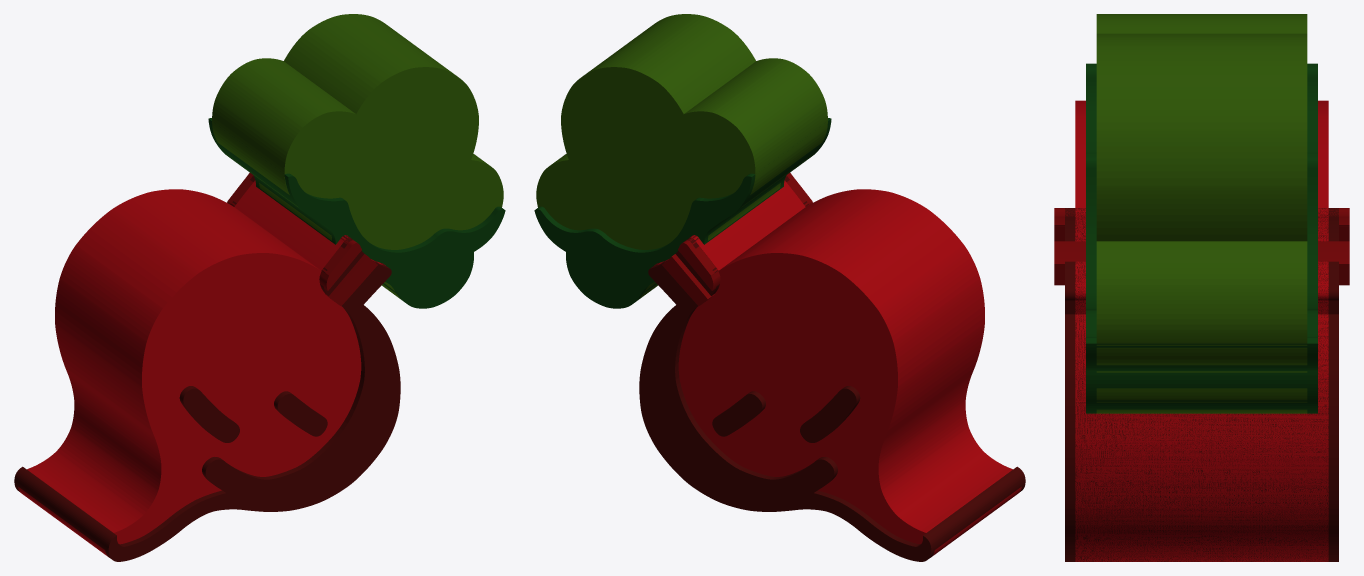
File: U+1FADC.obj
The picture shows the model from 3 angles, left to right: view 1: azimuth 30°, elevation 25°; view 2: azimuth 150°, elevation 25°; view 3: azimuth 270°, elevation 25°; orthographic projection. The views are drawn at different scales.
Parts seen in each view (by area): view 1: U+1FADC_layer02_obj00, U+1FADC_layer00_obj00, U+1FADC_layer03_obj00, U+1FADC_layer01_obj00, U+1FADC_layer04_obj00, U+1FADC_layer04_obj01; view 2: U+1FADC_layer02_obj00, U+1FADC_layer00_obj00, U+1FADC_layer03_obj00, U+1FADC_layer01_obj00, U+1FADC_layer04_obj00, U+1FADC_layer04_obj01; view 3: U+1FADC_layer00_obj00, U+1FADC_layer02_obj00, U+1FADC_layer03_obj00, U+1FADC_layer01_obj00, U+1FADC_layer04_obj01, U+1FADC_layer04_obj00.
Part boxes in pixels (x1=…): U+1FADC_layer02_obj00: x1=18, y1=180, x2=385, y2=556; U+1FADC_layer00_obj00: x1=212, y1=14, x2=503, y2=299; U+1FADC_layer03_obj00: x1=14, y1=176, x2=400, y2=561; U+1FADC_layer01_obj00: x1=208, y1=118, x2=505, y2=308; U+1FADC_layer04_obj00: x1=227, y1=173, x2=361, y2=290; U+1FADC_layer04_obj01: x1=325, y1=254, x2=377, y2=306; U+1FADC_layer02_obj00: x1=654, y1=180, x2=1021, y2=556; U+1FADC_layer00_obj00: x1=536, y1=14, x2=827, y2=299; U+1FADC_layer03_obj00: x1=639, y1=176, x2=1025, y2=561; U+1FADC_layer01_obj00: x1=534, y1=118, x2=831, y2=308; U+1FADC_layer04_obj00: x1=678, y1=173, x2=812, y2=290; U+1FADC_layer04_obj01: x1=662, y1=254, x2=714, y2=306; U+1FADC_layer00_obj00: x1=1096, y1=14, x2=1307, y2=413; U+1FADC_layer02_obj00: x1=1075, y1=100, x2=1328, y2=561; U+1FADC_layer03_obj00: x1=1065, y1=208, x2=1338, y2=561; U+1FADC_layer01_obj00: x1=1086, y1=63, x2=1317, y2=413; U+1FADC_layer04_obj01: x1=1054, y1=241, x2=1349, y2=285; U+1FADC_layer04_obj00: x1=1054, y1=208, x2=1349, y2=241.
Bounding box in the file's own units: 0.3231 × 0.3136 × 0.14.
